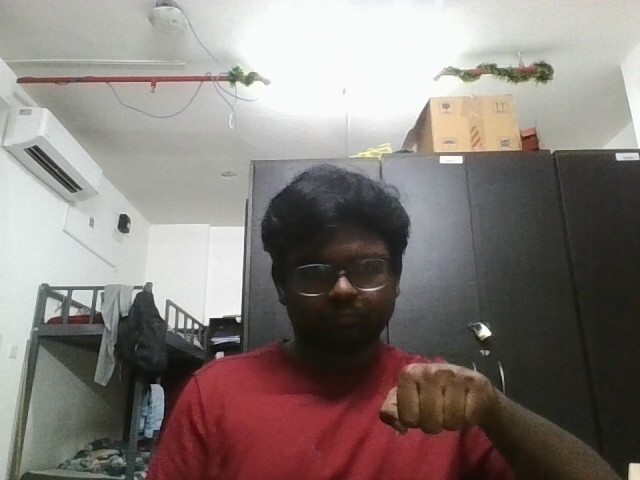Yes: (369, 353, 512, 444)
